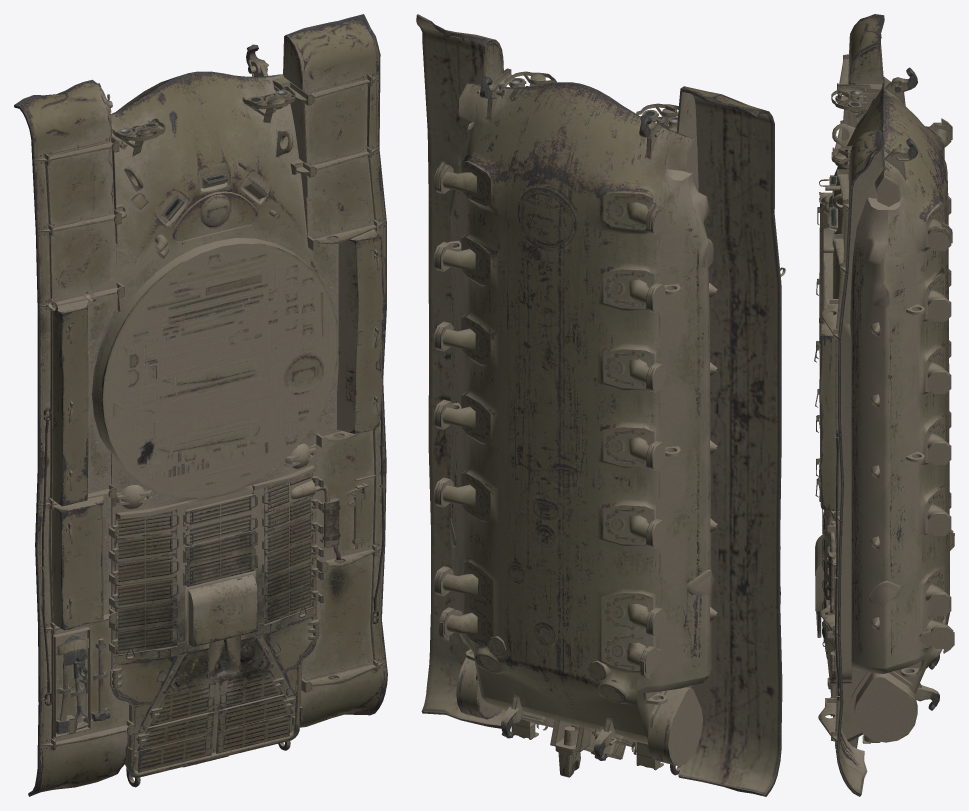
File: Hull.glb
3 renders of one model, left to right at view 1: azimuth 30°, elevation 25°; view 2: azimuth 150°, elevation 25°; view 3: azimuth 270°, elevation 25°, orthographic. The views are drawn at different scales.
Parts seen in each view (by area): view 1: set_0_group_0; view 2: set_0_group_0; view 3: set_0_group_0.
Boxes of the visible parts, box(x1,y1,x2,y2) form: set_0_group_0: box(14, 14, 387, 796); set_0_group_0: box(416, 14, 785, 796); set_0_group_0: box(814, 14, 954, 796).
Size of the model in its own units: 3.67 by 7.08 by 1.4.
Materials: 1 (1 with a texture image).
